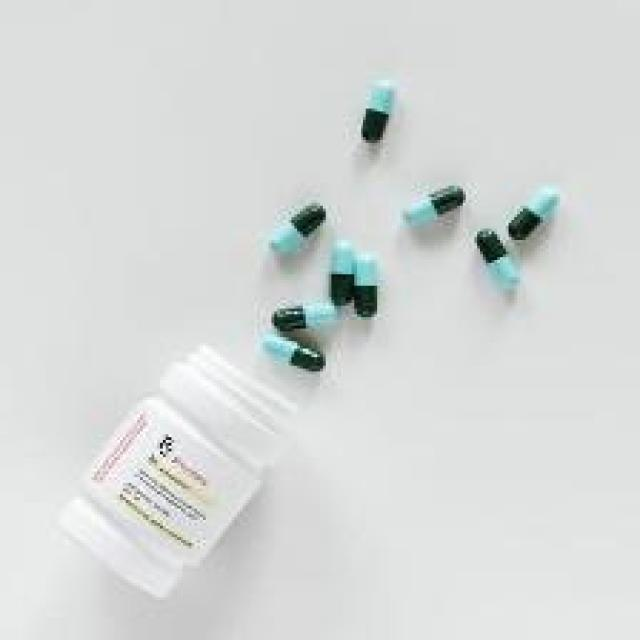Medicine: (264, 295, 338, 400), (246, 186, 337, 252), (346, 62, 410, 150), (329, 237, 393, 318), (503, 184, 579, 249), (390, 168, 469, 228), (464, 214, 523, 286)
